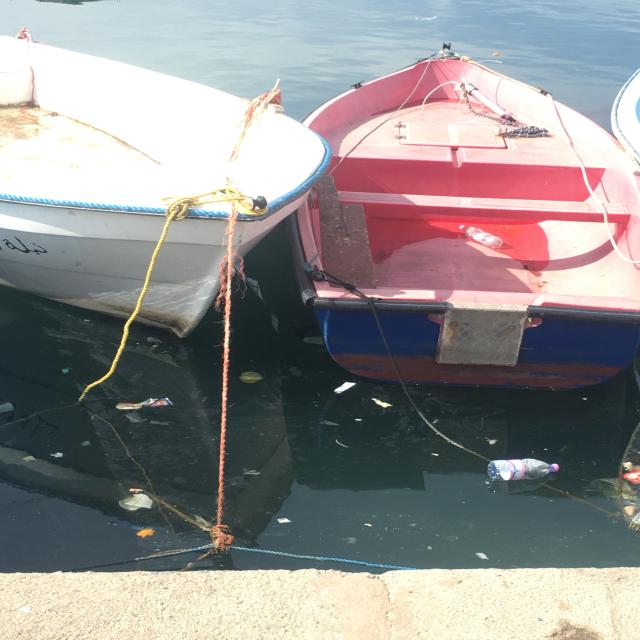Plastic bottle: (486, 457, 560, 483)
Plastic cup: (116, 491, 154, 512), (237, 369, 266, 385), (1, 401, 16, 415)
Plastic packaging: (114, 395, 176, 412)
Undefined trash: (333, 379, 357, 396), (370, 396, 394, 410), (474, 552, 490, 561), (276, 516, 292, 524)
